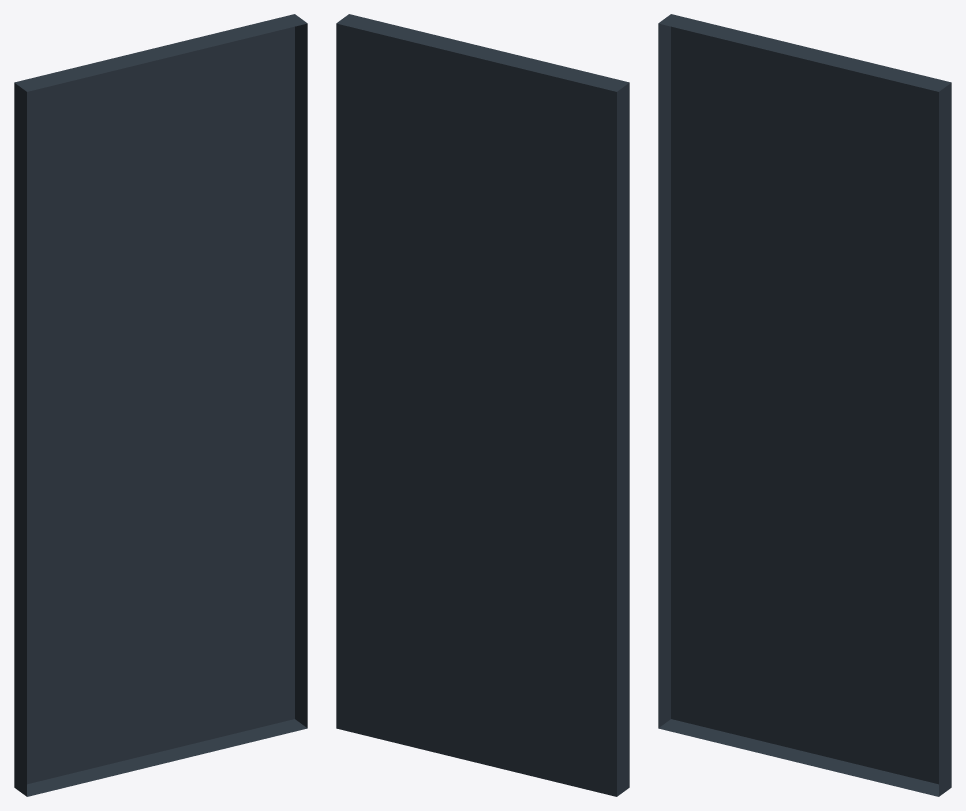
File: original-1.obj
3 renders of one model, left to right at view 1: azimuth 30°, elevation 25°; view 2: azimuth 150°, elevation 25°; view 3: azimuth 330°, elevation 25°, orthographic.
Visible parts, largest first — view 1: #ID16; view 2: #ID16; view 3: #ID16.
Boxes of the visible parts, bbox=[...] form: #ID16: bbox=[14, 14, 307, 796]; #ID16: bbox=[336, 14, 629, 796]; #ID16: bbox=[658, 14, 951, 796].
Bounding box in the file's own units: 0.4417 × 1.06 × 0.0353.
